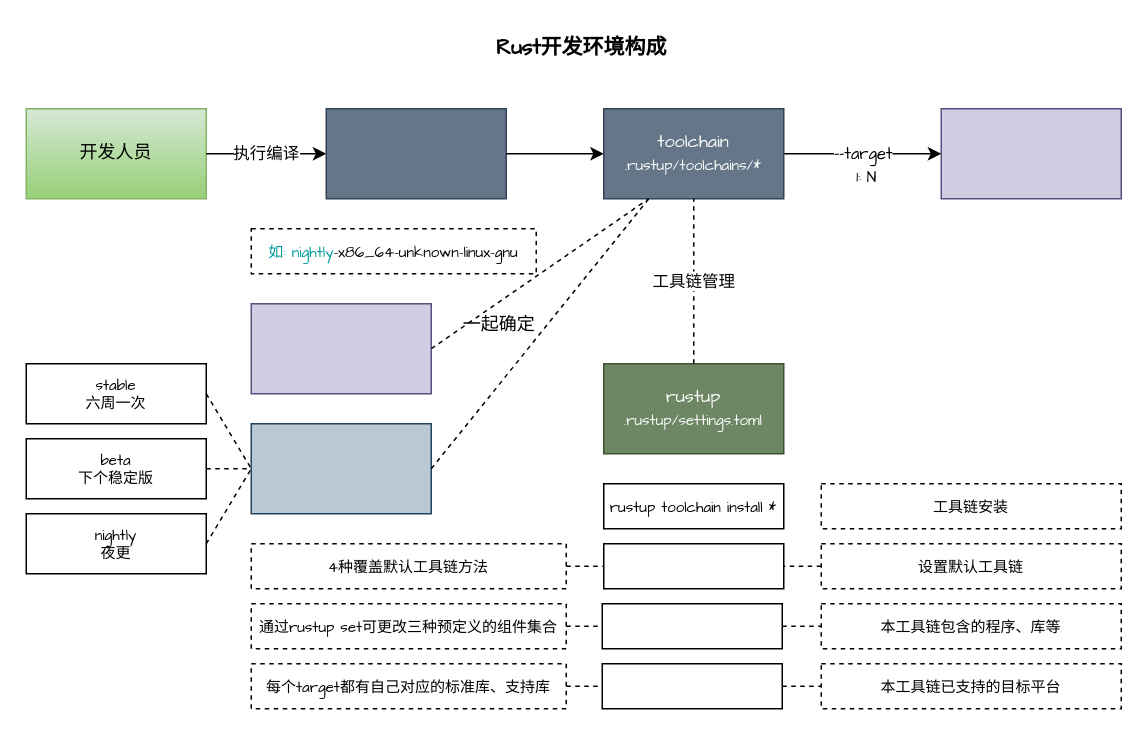
This 1148x735 diagram has some shape labels left out. The centre of each missing label's shape, as x and y in pixels:
"dev host 开发平台" belongs at point 340,348.
"RUST channel stable/beta/nightly" belongs at point 340,468.
"rustup component *" belongs at point 691,625.
"rustup default *" belongs at point 693,565.
"rustup target *" belongs at point 691,685.
"target host 运行平台" belongs at point 1030,153.
"工具代理 .cargo/bin/*" belongs at point 415,153.
